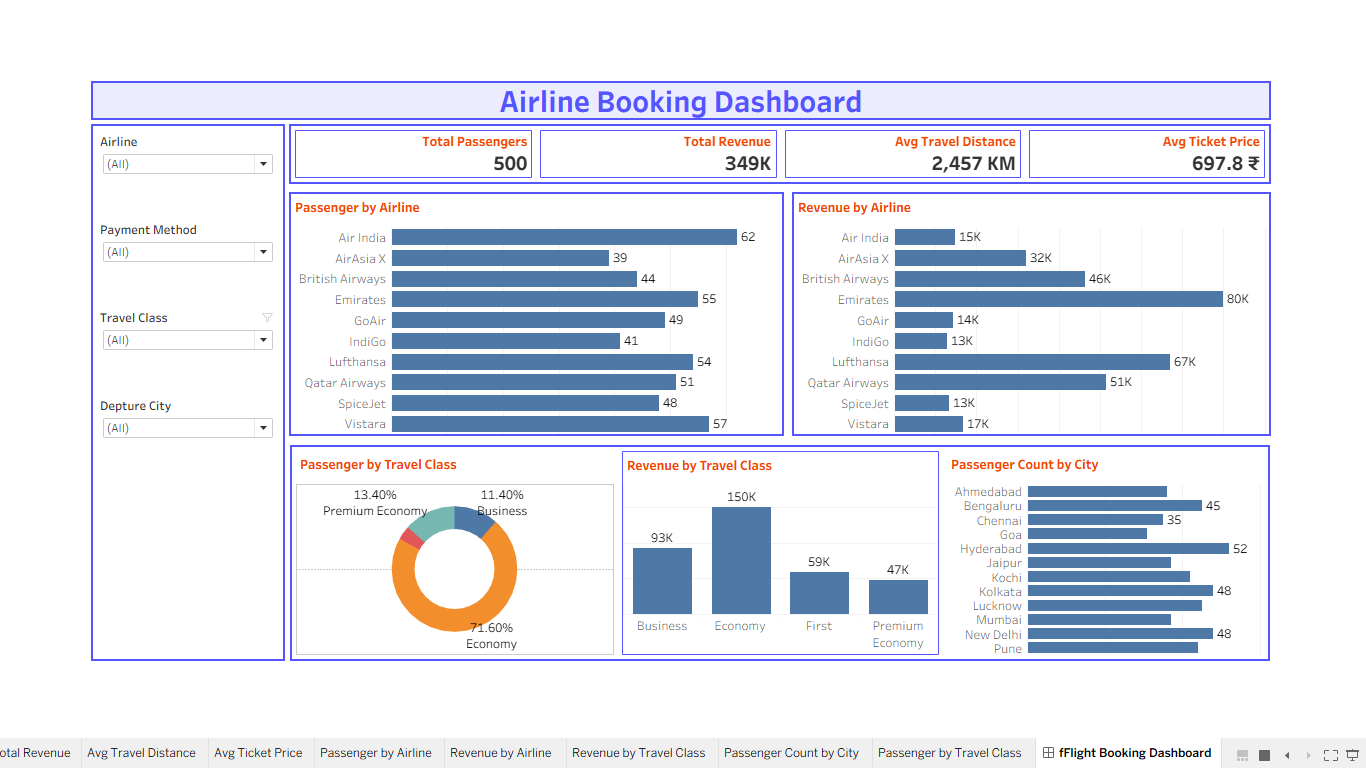

Layout of this report page (visuals, bound fields, positions):
{"tool":"tableau","page":{"name":"fFlight Booking Dashboard ","canvas":[1200,600],"ordinal":0},"visuals":[{"type":"text","box":[8,8,1184,46.9]},{"type":"worksheet","title":"Total Passengers","mark":"Automatic","box":[208,57,245,56]},{"type":"worksheet","title":"Total Revenue","mark":"Automatic","box":[453,57,245,56]},{"type":"worksheet","title":"Avg Travel Distance","mark":"Automatic","box":[698,57,244,56]},{"type":"worksheet","title":"Avg Ticket Price","mark":"Automatic","box":[942,57,244,56]},{"type":"filter","title":"Passenger by Airline","param":"[federated.1ifynri0cqlgbr16ywdqw1i9xpku].[none:Airline:nk]","box":[13,60,184,88]},{"type":"worksheet","title":"Passenger by Airline","mark":"Bar","rows":["Airline"],"cols":["Calculation_0840046824316928"],"box":[201.7,119,503,251.8]},{"type":"worksheet","title":"Revenue by Airline ","mark":"Bar","rows":["Airline"],"cols":["Calculation_0840046826893313"],"box":[705,119,487,252]},{"type":"filter","title":"Passenger by Airline","param":"[federated.1ifynri0cqlgbr16ywdqw1i9xpku].[none:Payment_Method:nk]","box":[13,148,184,88]},{"type":"filter","title":"Passenger by Airline","param":"[federated.1ifynri0cqlgbr16ywdqw1i9xpku].[none:Travel_Class:nk]","box":[13,236,184,88]},{"type":"filter","title":"Passenger by Airline","param":"[federated.1ifynri0cqlgbr16ywdqw1i9xpku].[none:Depture_City:nk]","box":[13,324,184,88]},{"type":"worksheet","title":"Passenger by Travel Class","mark":"Pie","rows":["Calculation_0840046838439942","Calculation_0840046838439942"],"box":[209,378,326,212]},{"type":"worksheet","title":"Revenue by Travel Class","mark":"Automatic","rows":["Calculation_0840046826893313"],"cols":["Travel_Class"],"box":[535,378,325,212]},{"type":"worksheet","title":"Passenger Count by City","mark":"Automatic","rows":["Depture_City"],"cols":["Calculation_0840046824316928"],"box":[860,378,325,212]}]}

Visuals, with their boxes on the page's 1200x600 design canvas (x1, y1, x2, y2). These are canvas units, not pixel positions in the 1366x768 screenshot, which may show the page scaled, cropped or inside an application window:
text: rect(8, 8, 1192, 55)
"Total Passengers" worksheet: rect(208, 57, 453, 113)
"Total Revenue" worksheet: rect(453, 57, 698, 113)
"Avg Travel Distance" worksheet: rect(698, 57, 942, 113)
"Avg Ticket Price" worksheet: rect(942, 57, 1186, 113)
"Passenger by Airline" filter: rect(13, 60, 197, 148)
"Passenger by Airline" worksheet (Bar marks): rect(202, 119, 705, 371)
"Revenue by Airline " worksheet (Bar marks): rect(705, 119, 1192, 371)
"Passenger by Airline" filter: rect(13, 148, 197, 236)
"Passenger by Airline" filter: rect(13, 236, 197, 324)
"Passenger by Airline" filter: rect(13, 324, 197, 412)
"Passenger by Travel Class" worksheet (Pie marks): rect(209, 378, 535, 590)
"Revenue by Travel Class" worksheet: rect(535, 378, 860, 590)
"Passenger Count by City" worksheet: rect(860, 378, 1185, 590)
